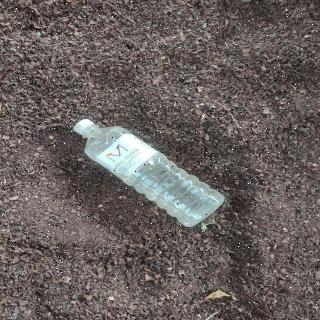Plastic-bottle: (71, 117, 232, 230)
